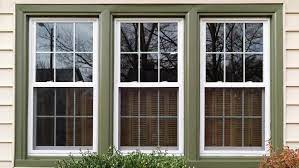Window: (28, 14, 98, 152), (199, 15, 270, 151), (113, 17, 181, 150)
